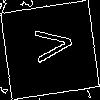V: (25, 24, 74, 65)
